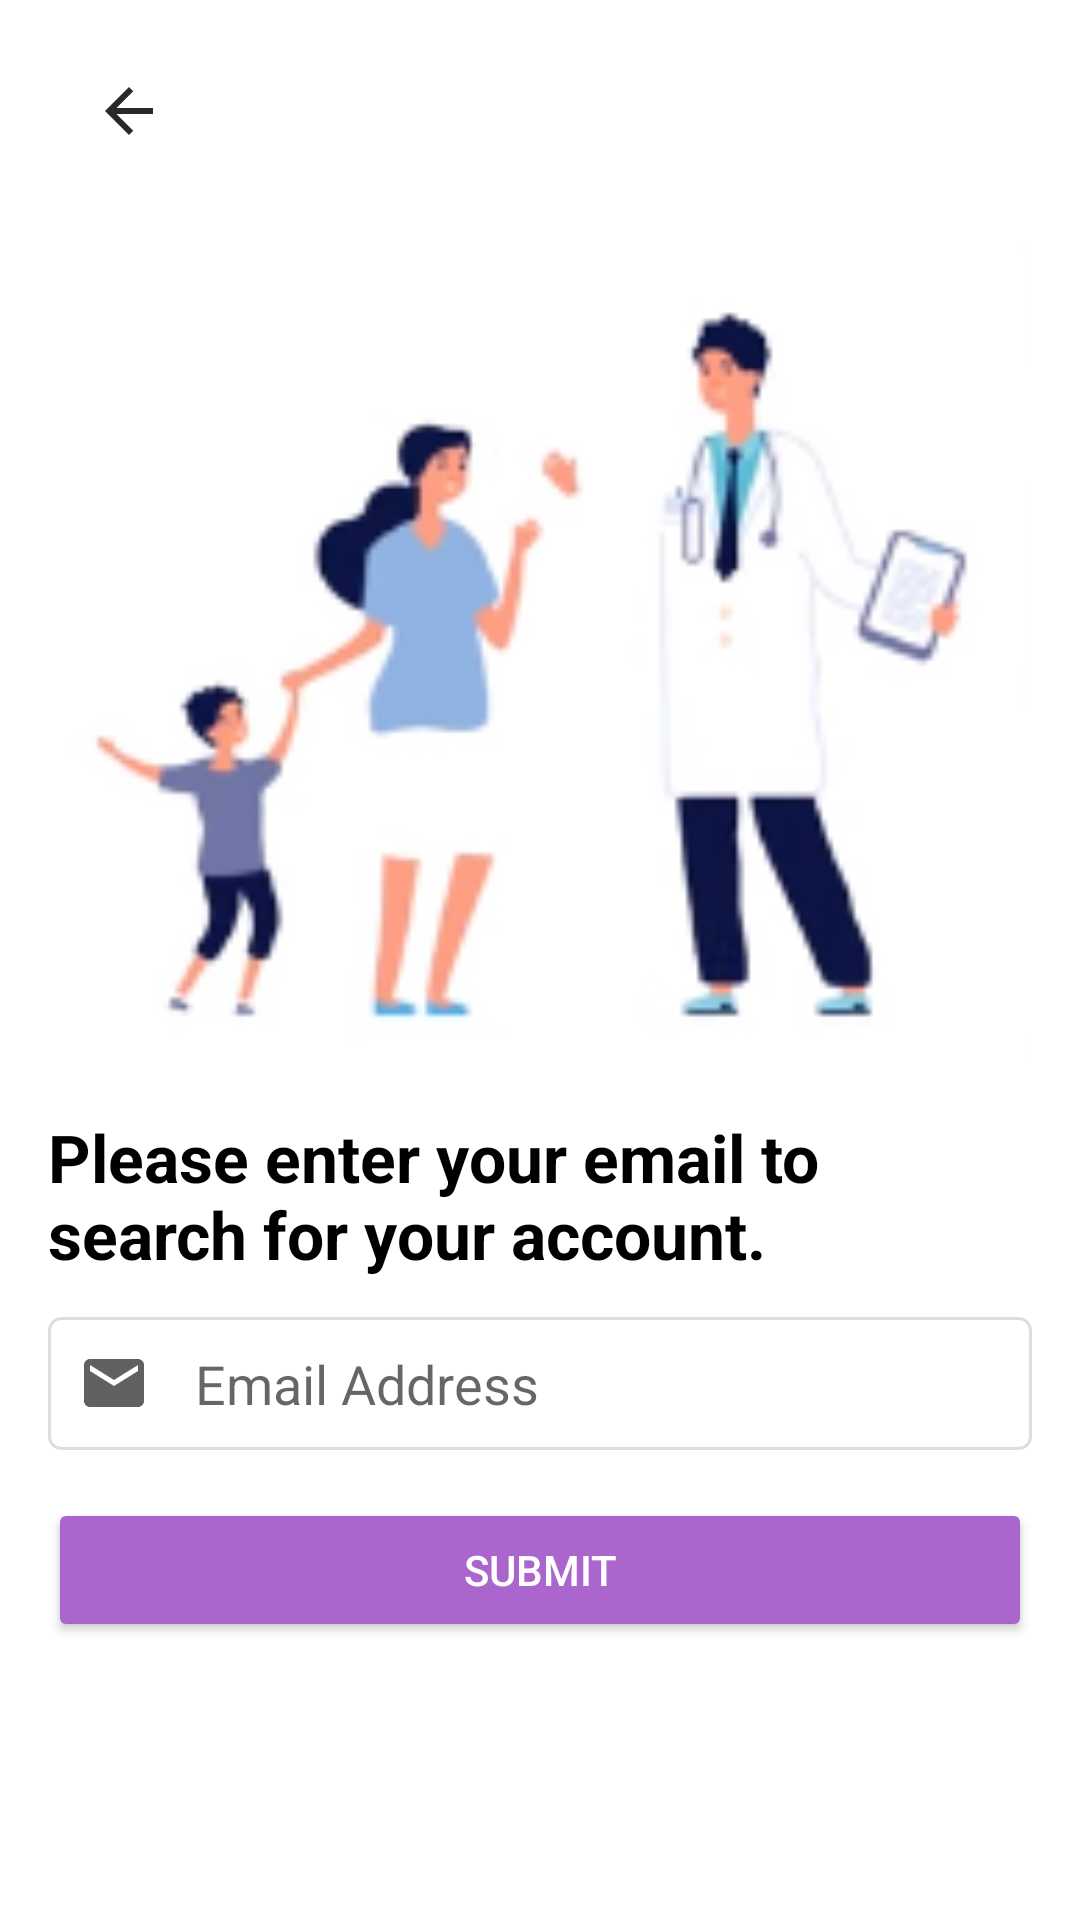

Named icons in this screenshot (1080x1920) and their bounding boxes, (x1, y1, x2, y2):
back arrow: (105, 87, 153, 135)
